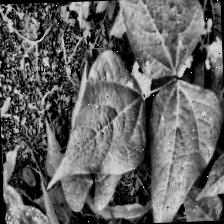Bean Rust: (44, 52, 150, 189), (148, 78, 224, 223), (108, 0, 204, 79)
